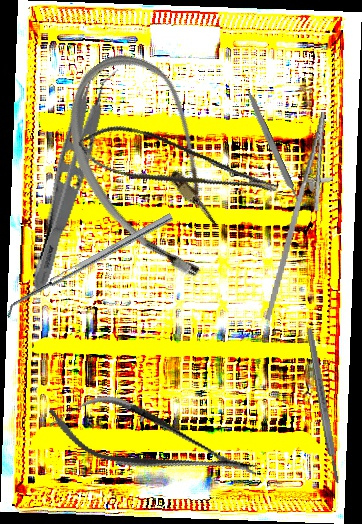Cannula: (35, 35, 270, 297)
Micro Scissor: (39, 379, 266, 505), (70, 108, 282, 230)
Needle Holder: (263, 108, 344, 326)
Scalpel Handle: (243, 88, 301, 204), (305, 326, 342, 485)
Spatula Surgical: (1, 212, 178, 320)
Tissue Forceps: (26, 60, 121, 299)
